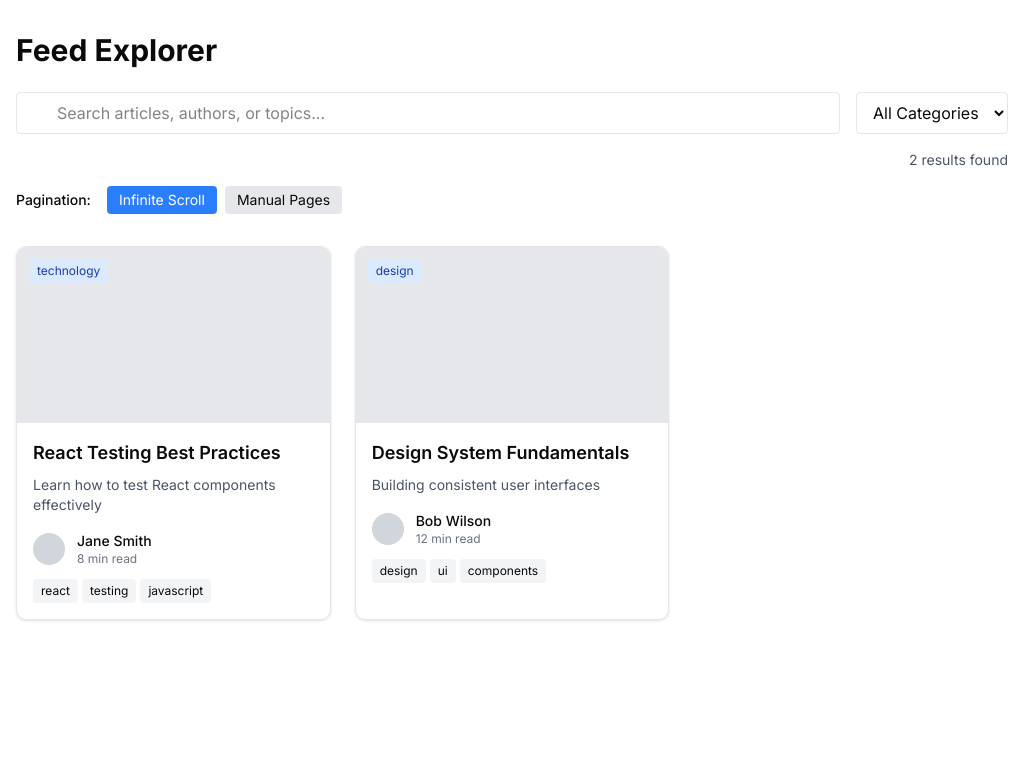
Feed Integration Tests (Working) › handles clearing filters
This screenshot has width=1024, height=768.
// Add search filter
In the field with placeholder "Search articles, authors, or topics...": (428, 113) [16,92,840,134], type "React"
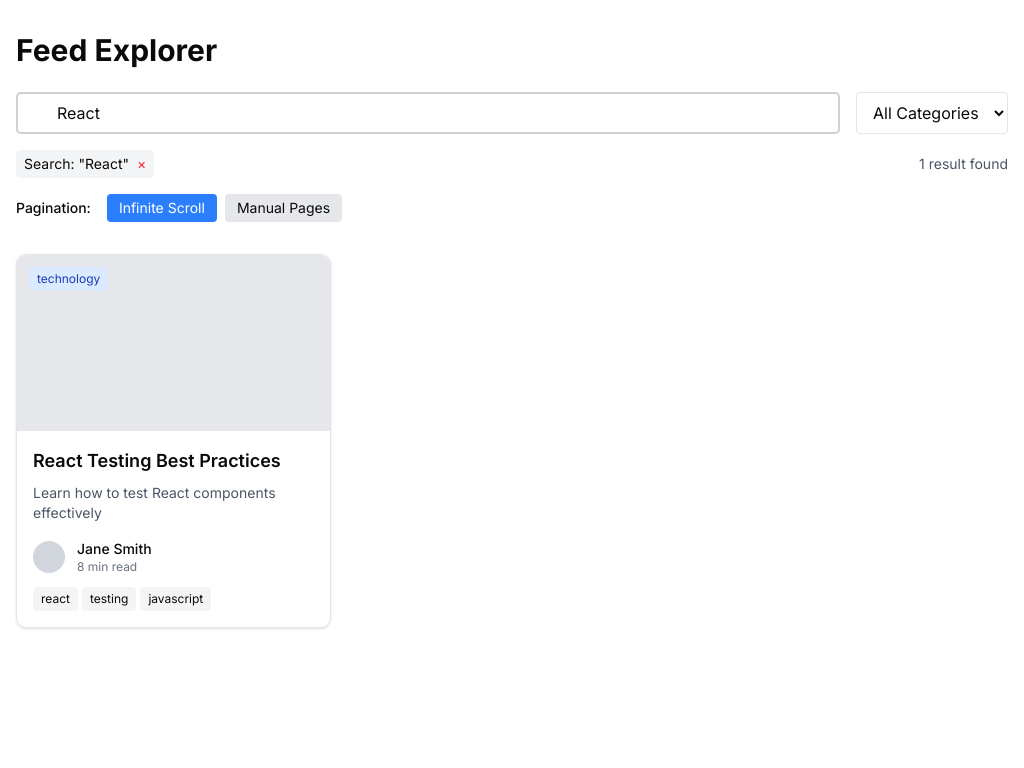
Expected: the text "Search: \"React\"" is shown, [16,150,154,178]
Expected: the text "1 result found" is shown, [919,154,1008,174]
// Clear the search filter
Click the button "×": (142, 164) [137,154,146,174]
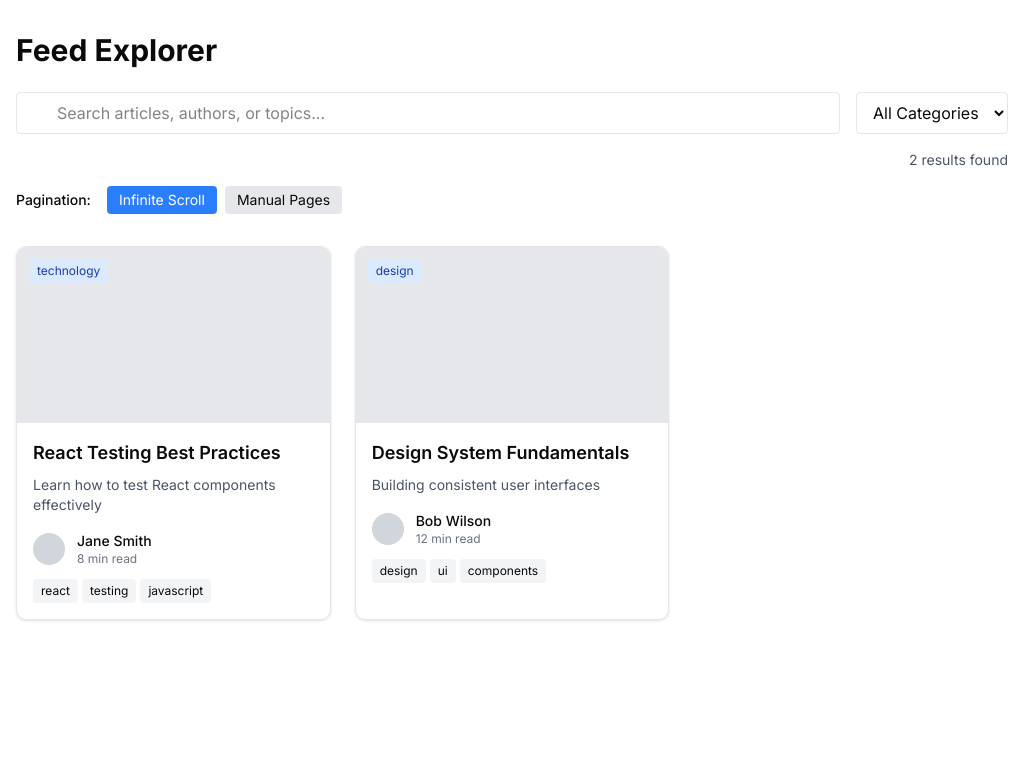
Expected: the text "Search: \"React\"" is gone
Expected: the text "2 results found" is shown, [909,150,1008,170]
